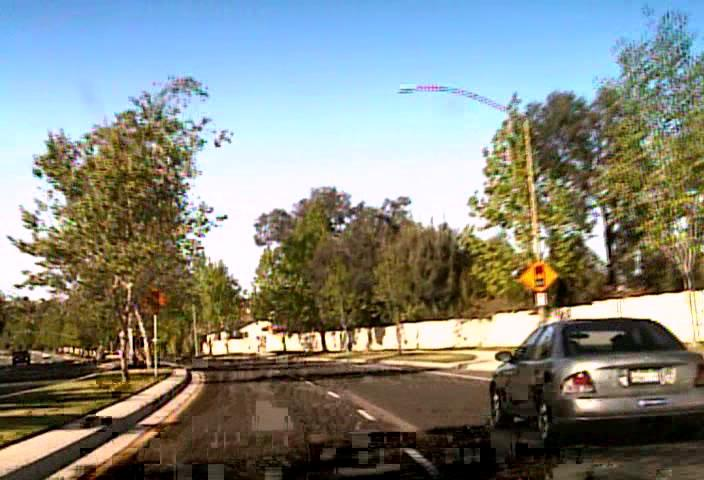signalAhead: (518, 259, 559, 293)
